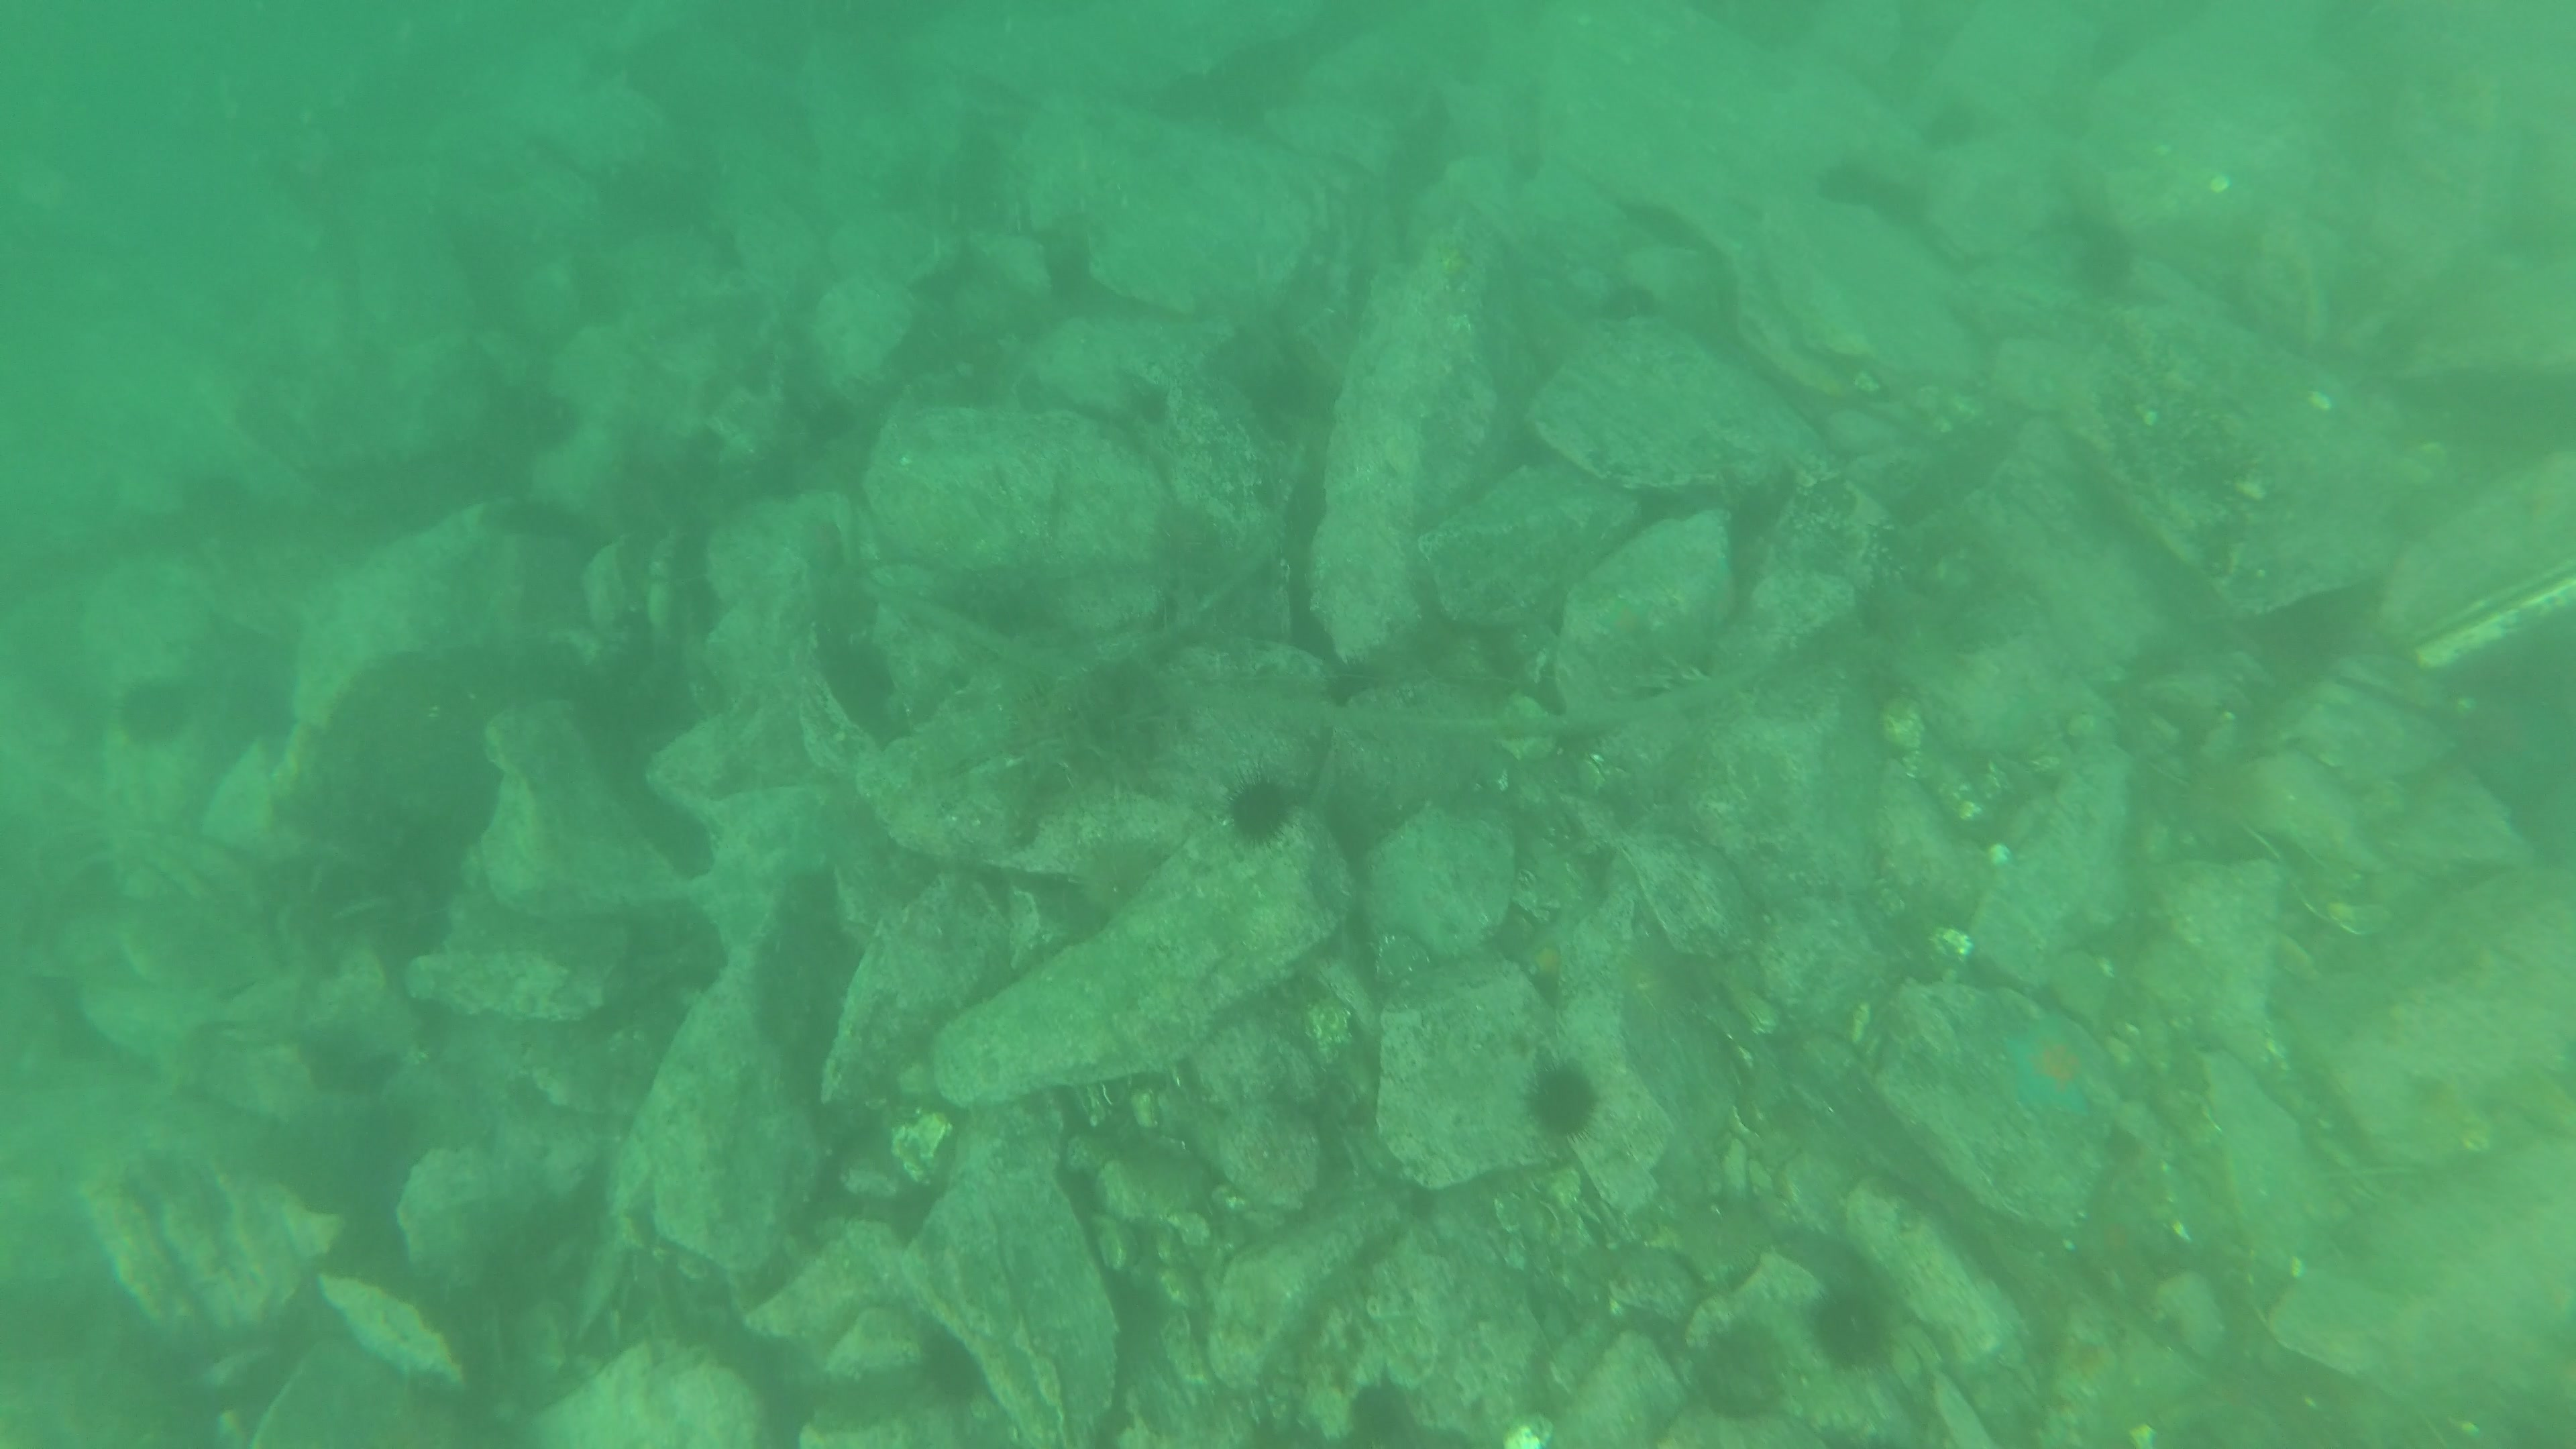echinus: (1683, 1322, 1799, 1430), (1518, 1049, 1621, 1161), (1799, 1276, 1897, 1378), (170, 460, 267, 548), (113, 672, 203, 757), (1219, 764, 1304, 853), (506, 377, 589, 467), (1330, 1378, 1415, 1449)
starfish: (2001, 1008, 2102, 1123)
